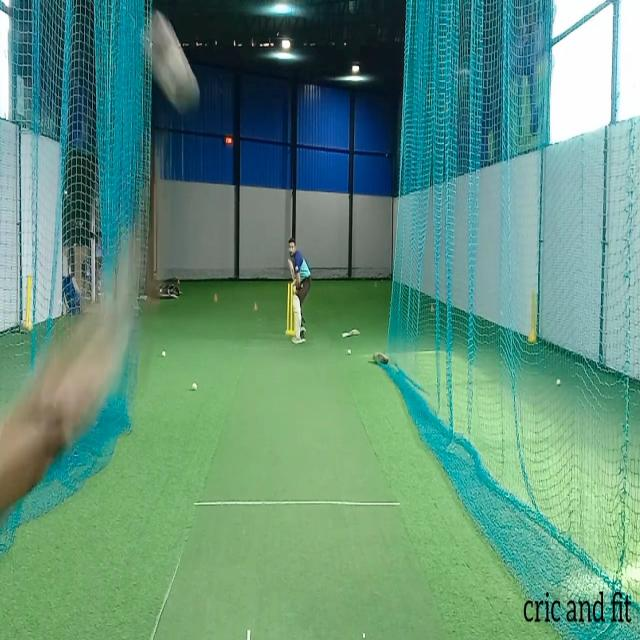batsman: (287, 236, 312, 346)
